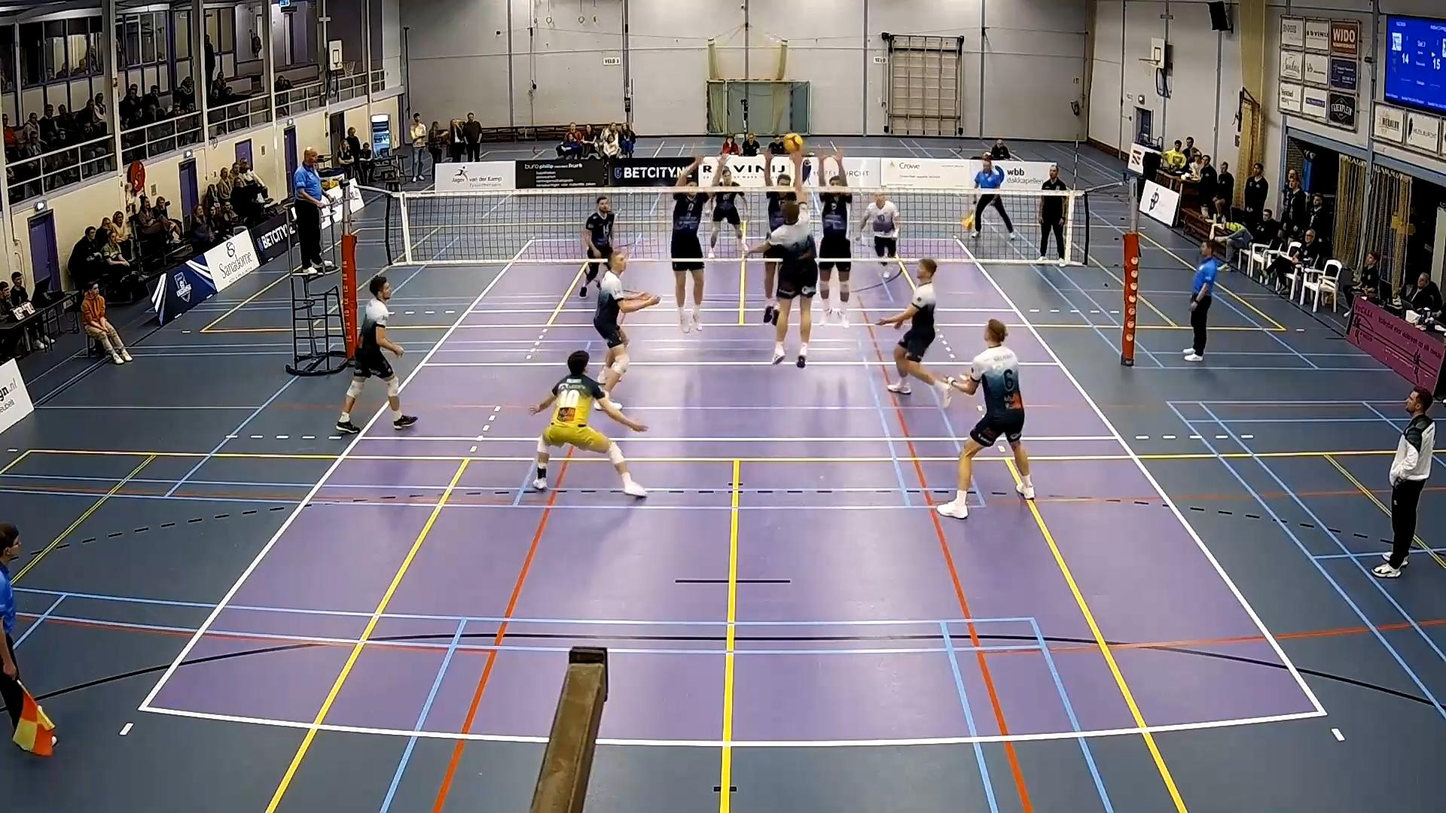Attack: (743, 170, 831, 372)
Block: (661, 149, 726, 334), (764, 146, 803, 324), (817, 149, 853, 332)
Player: (937, 319, 1034, 518), (530, 350, 646, 497), (335, 276, 416, 433), (877, 258, 951, 406), (593, 252, 659, 393), (859, 191, 901, 280), (579, 196, 615, 297), (708, 156, 743, 257)
ball: (781, 134, 805, 150)
